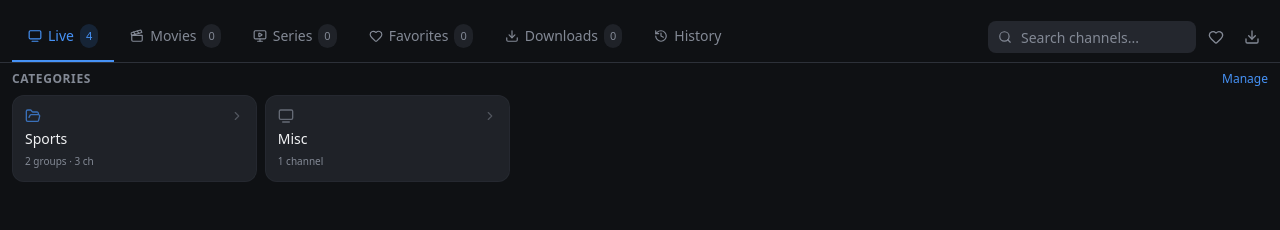
Test: ChannelList category hierarchy › opens a group that has no category straight from its tile
This screenshot has width=1280, height=230.
Click the text "Misc". click: (293, 139)
box: top-left (278, 130), bottom-right (308, 148)
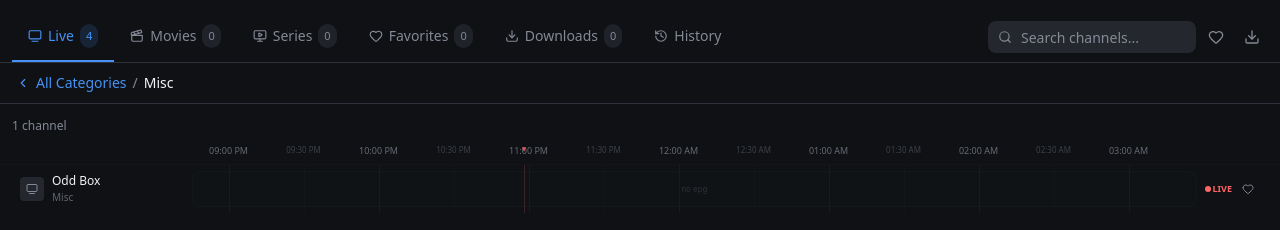
Check: the text "Odd Box" is shown, box top-left (52, 172), bottom-right (100, 189)
Check: the text "1 channel" is shown, box top-left (12, 117), bottom-right (67, 134)
Click the button "All Categories". click: (81, 83)
box: top-left (36, 73), bottom-right (126, 93)
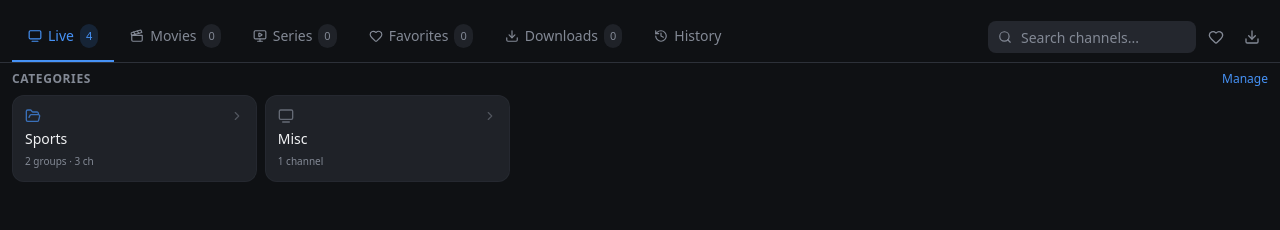
Check: the button "Odd Box" is gone
